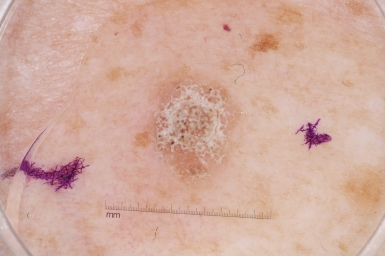seborrheic keratosis: (128, 66, 267, 183)
